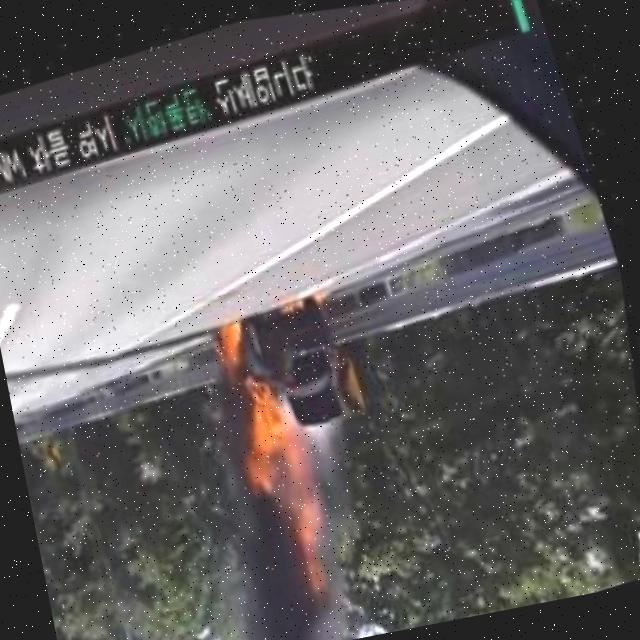fire: (222, 366, 318, 503), (280, 485, 343, 605), (216, 314, 256, 362)
